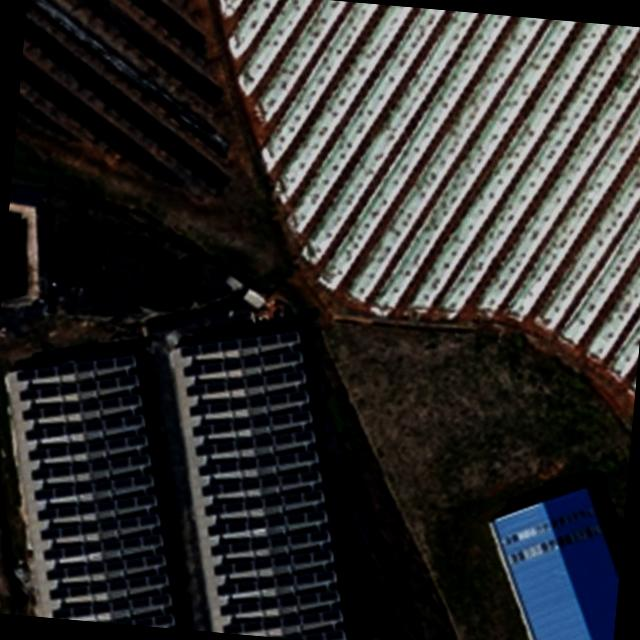solar: (188, 376, 307, 429), (34, 462, 153, 514), (50, 560, 168, 612), (206, 496, 326, 547), (36, 480, 156, 531), (39, 500, 161, 550), (177, 318, 301, 367), (21, 380, 142, 430), (182, 338, 302, 388), (192, 398, 312, 448), (212, 536, 332, 586), (31, 442, 151, 492), (186, 356, 305, 406), (29, 422, 148, 472), (199, 458, 320, 507), (204, 476, 322, 526), (194, 419, 314, 468), (198, 438, 318, 487), (214, 558, 334, 607), (49, 542, 166, 592), (44, 521, 161, 571), (209, 518, 329, 566), (16, 343, 136, 391), (50, 580, 172, 627), (220, 578, 338, 626), (20, 362, 138, 410), (24, 403, 144, 450), (223, 597, 341, 640), (118, 604, 178, 628), (289, 622, 342, 640)
